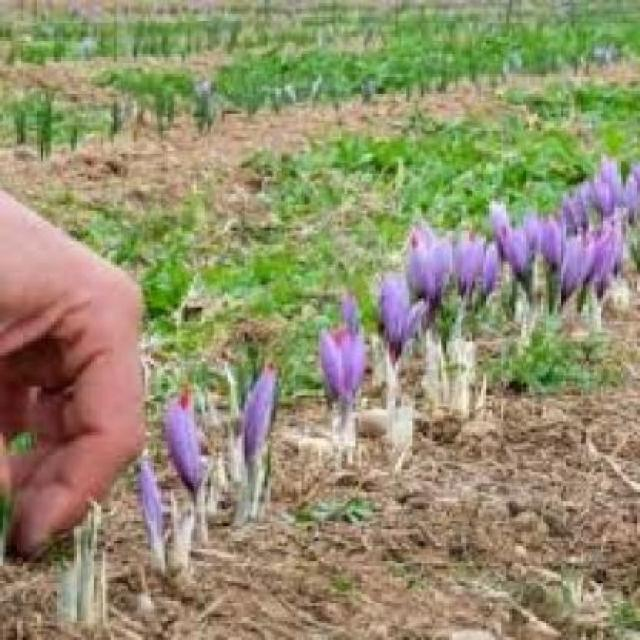Flower: (316, 318, 366, 410), (164, 396, 211, 493), (238, 362, 279, 463)
